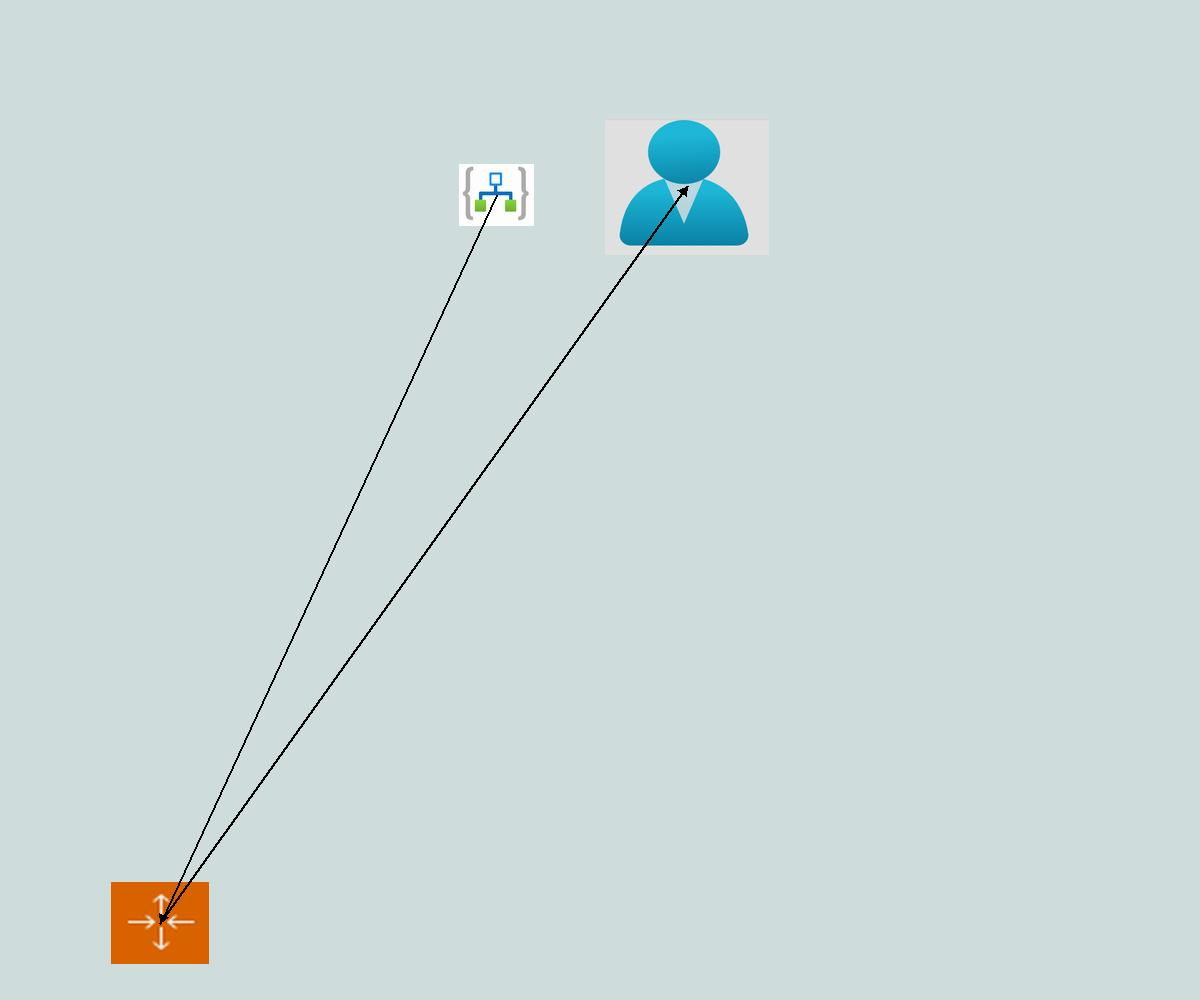AWS-Scaling-group: (111, 882, 209, 964)
Azure_integration-204-Logic-Apps: (459, 164, 534, 226)
Azure_users: (605, 118, 769, 255)
